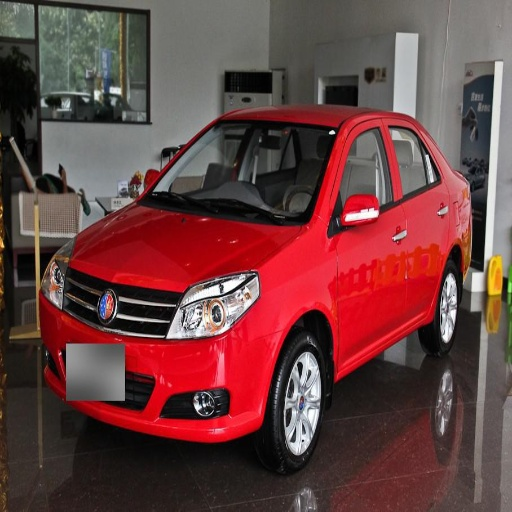front_bumper: (40, 262, 286, 442)
front_glass: (138, 120, 336, 223)
front_left_door: (336, 120, 406, 363)
